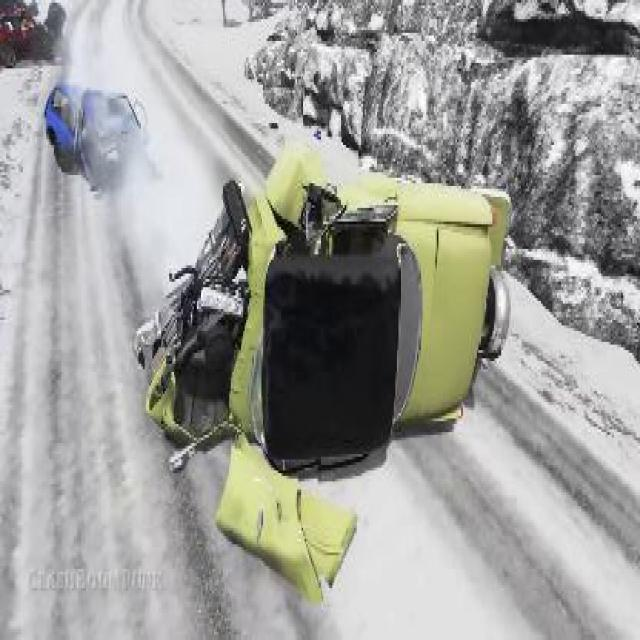accident: (131, 140, 520, 484)
